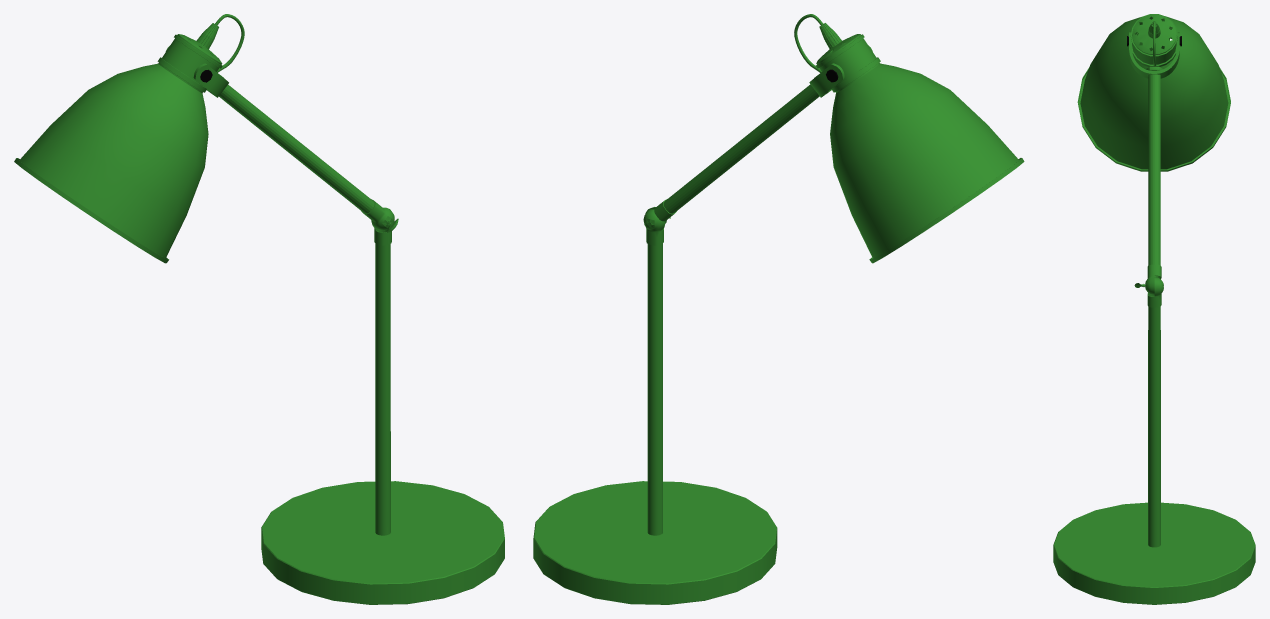
Rendered from lamp_Priddy.FBX.
3 renders of one model, left to right at view 1: azimuth 30°, elevation 25°; view 2: azimuth 150°, elevation 25°; view 3: azimuth 270°, elevation 25°, orthographic. The views are drawn at different scales.
Visible parts, largest first — view 1: base_part, lampshade_(rotate), part_2, part_3; view 2: base_part, lampshade_(rotate), part_2, part_3; view 3: base_part, lampshade_(rotate), part_2, part_3, part_for_rotation, part_1.
Part boxes in pixels (x1,y1,x2,y2): base_part: [261, 228, 504, 604]; lampshade_(rotate): [14, 34, 222, 263]; part_2: [219, 84, 374, 213]; part_3: [165, 46, 228, 97]; base_part: [533, 243, 777, 604]; lampshade_(rotate): [816, 34, 1024, 263]; part_2: [663, 84, 819, 213]; part_3: [809, 45, 872, 97]; base_part: [1053, 294, 1255, 604]; lampshade_(rotate): [1077, 14, 1230, 171]; part_2: [1148, 74, 1160, 277]; part_3: [1127, 32, 1181, 78]; part_for_rotation: [1145, 264, 1161, 294]; part_1: [1147, 277, 1163, 307].
Size of the model in its own units: 335 by 403 by 155.
